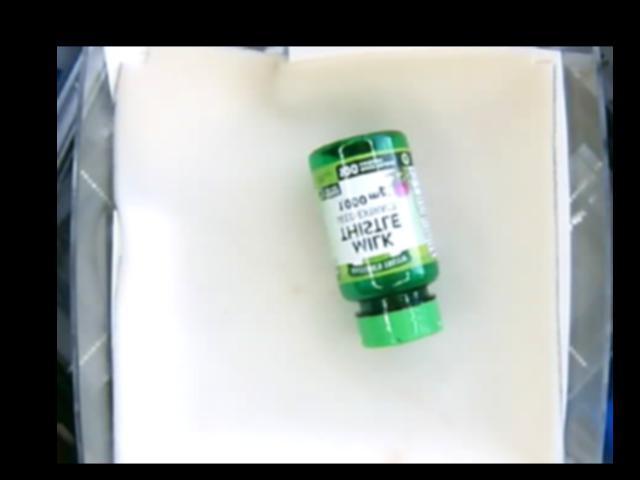Bottle: (312, 129, 443, 345)
